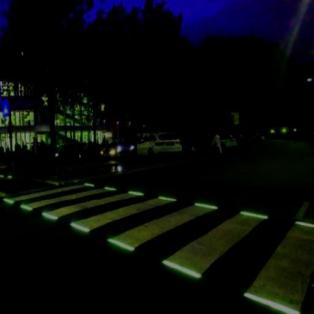Paso de Cebra: (67, 193, 237, 255)
